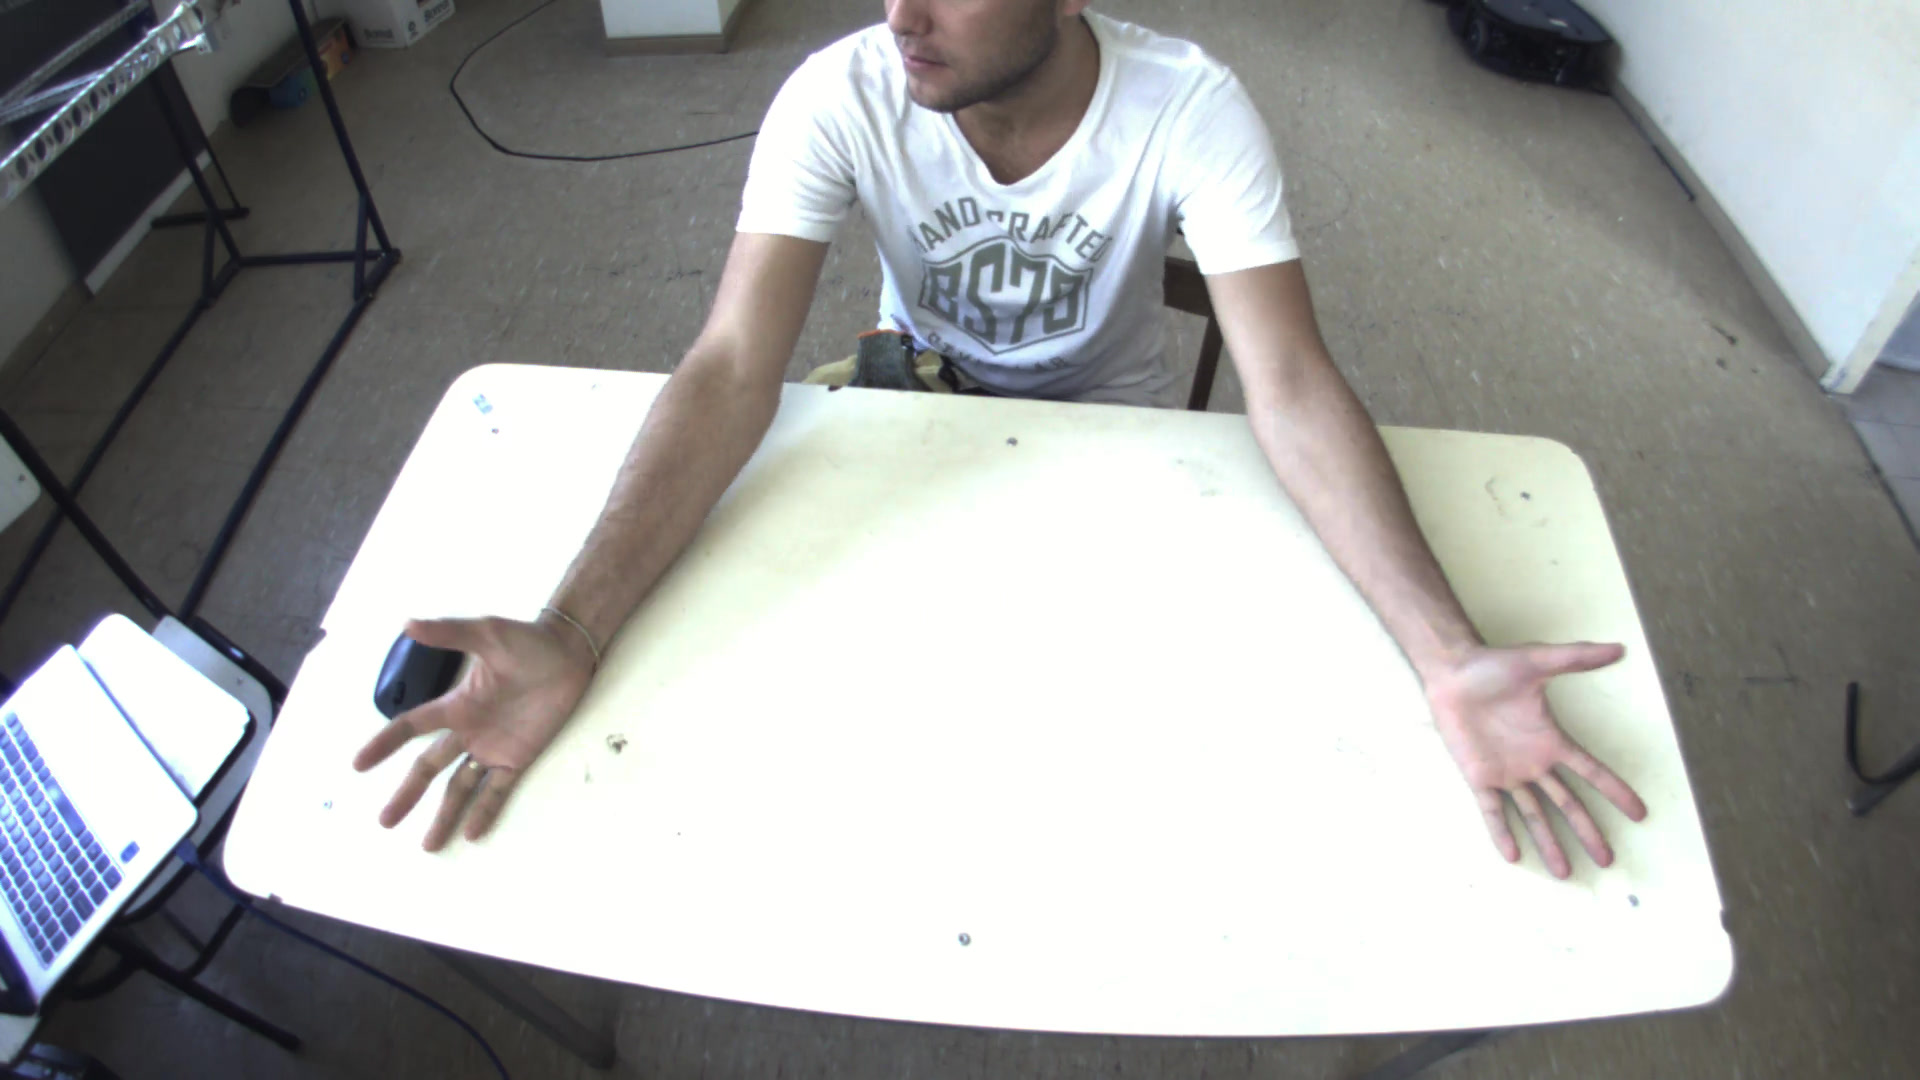hand: (1420, 611, 1671, 895), (330, 595, 593, 864)
